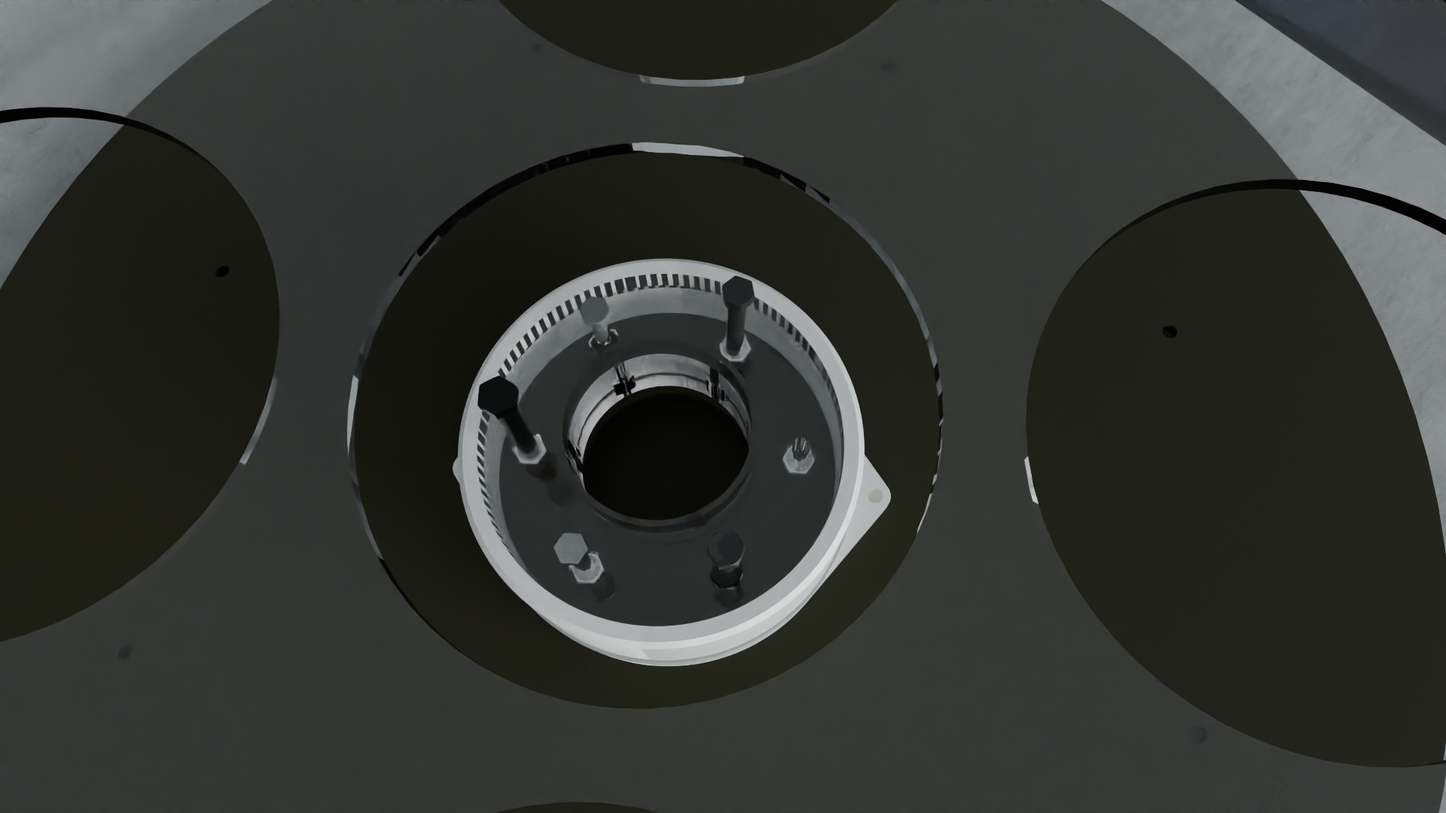bolt: (477, 376, 516, 416), (706, 531, 746, 568), (554, 533, 588, 564), (722, 276, 755, 307), (579, 297, 610, 324)
